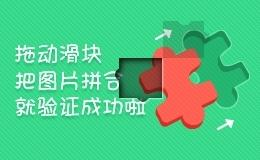target: (97, 36, 141, 78)
